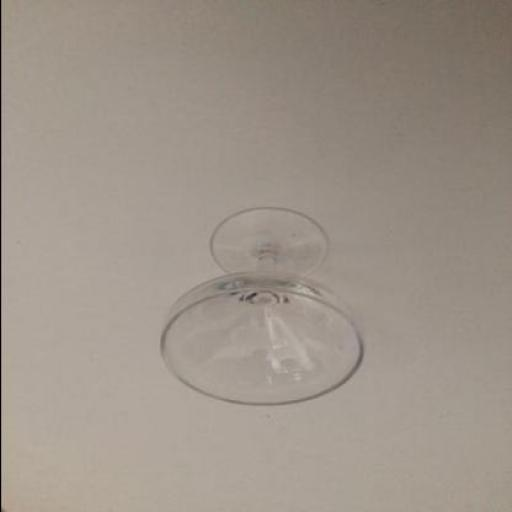glass: (158, 207, 360, 407)
